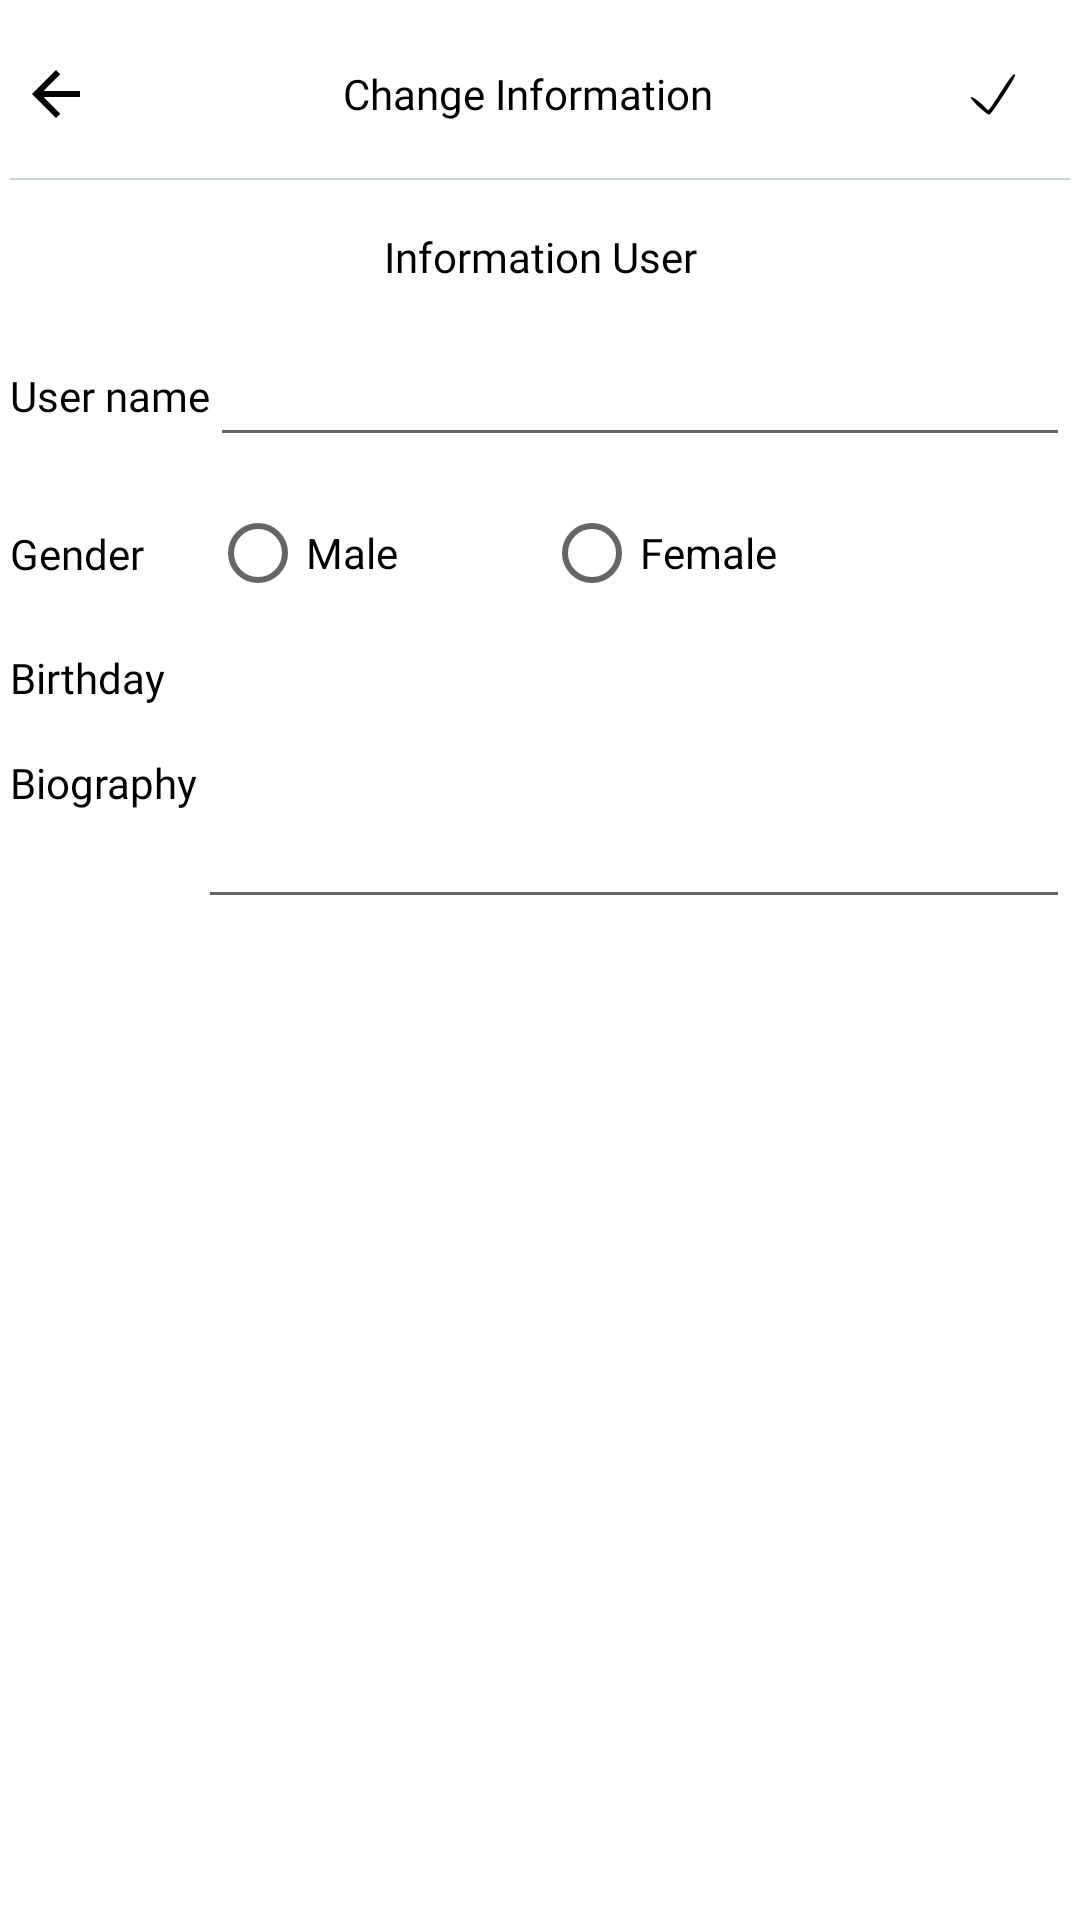

Icons on this 1080 × 1920 Android screen, each with its box as region(x1, y1, x2, y2):
arrow: region(32, 70, 80, 118)
done: region(970, 74, 1015, 115)
